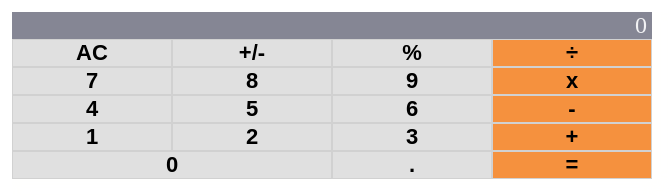
Test: should show clicked number on the console and work as expected › 5 should appear when 5 is clicked
This screenshot has width=669, height=196.
Click the button "5" at (252, 109), box left=172, top=95, right=332, bottom=123
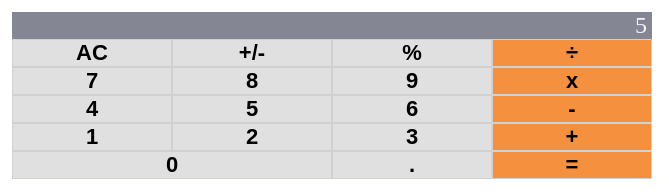
Expected: the text titled "board" reads "5", left=635, top=12, right=647, bottom=38
